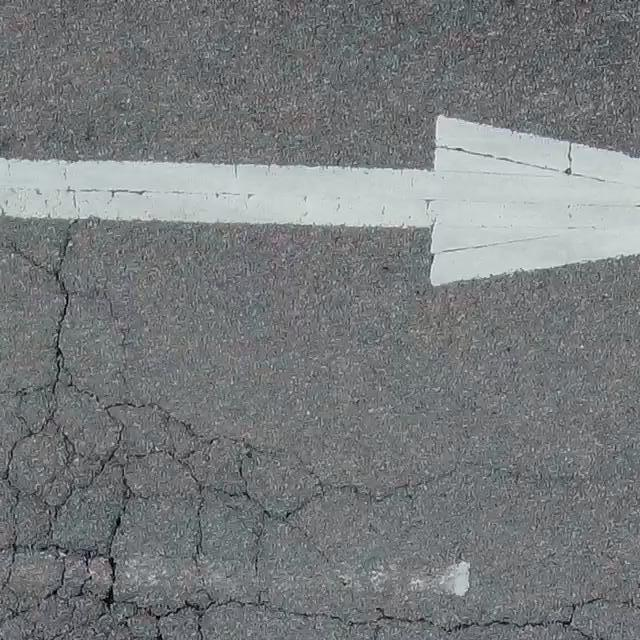GRIETA: (344, 459, 576, 505), (387, 615, 602, 639), (52, 223, 74, 363), (568, 595, 639, 621), (1, 242, 52, 275)
PIEL DE COCODRILO: (0, 361, 390, 639)
